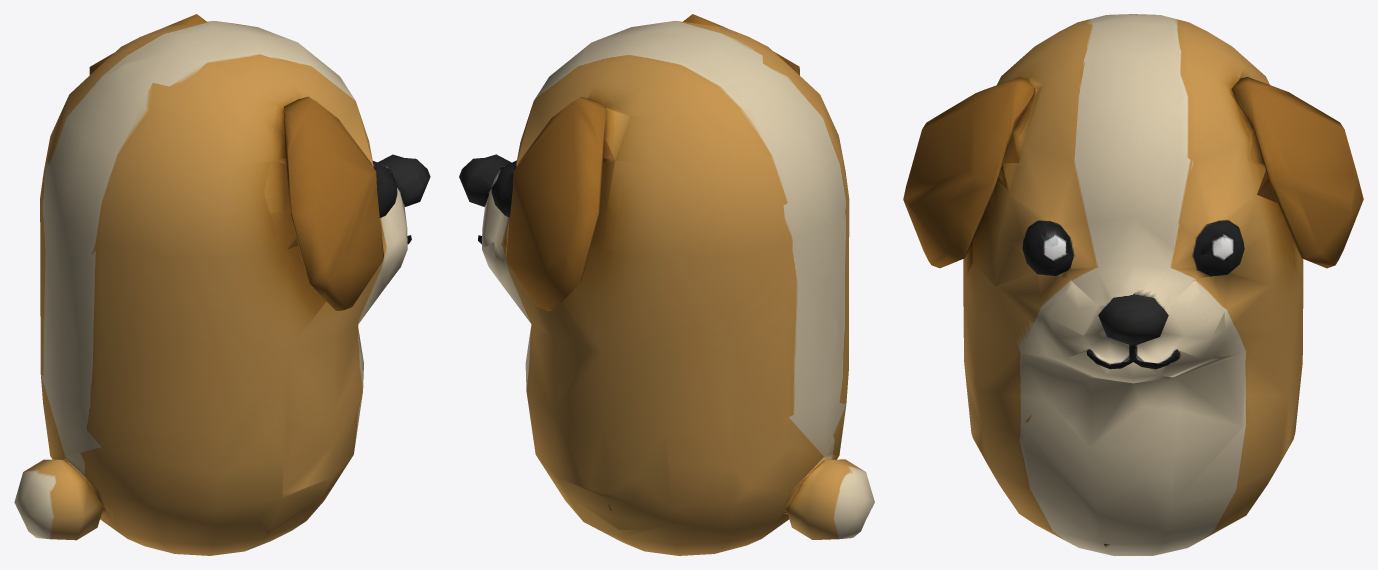
The model's file is dog_v3 1.fbx.
3 views of the same model, side by side, from view 1: azimuth 30°, elevation 25°; view 2: azimuth 150°, elevation 25°; view 3: azimuth 270°, elevation 25° (orthographic). The views are drawn at different scales.
Parts seen in each view (by area): view 1: tripo_node_426fcc5f; view 2: tripo_node_426fcc5f; view 3: tripo_node_426fcc5f.
Boxes of the visible parts, bbox=[...] form: tripo_node_426fcc5f: bbox=[14, 14, 430, 555]; tripo_node_426fcc5f: bbox=[459, 14, 874, 555]; tripo_node_426fcc5f: bbox=[903, 14, 1363, 555].
Size of the model in its own units: 84.72 by 97.9 by 81.38.
